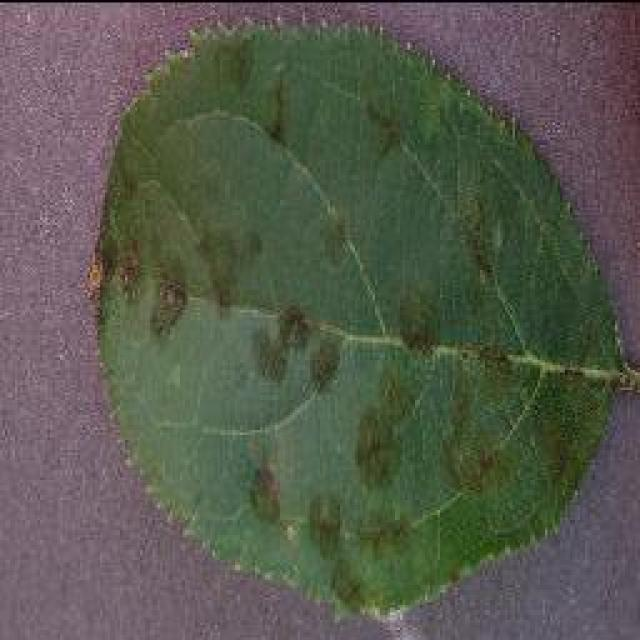apple scab disease: (83, 18, 635, 622)
